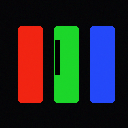4 line_v: (55, 40, 59, 74)
